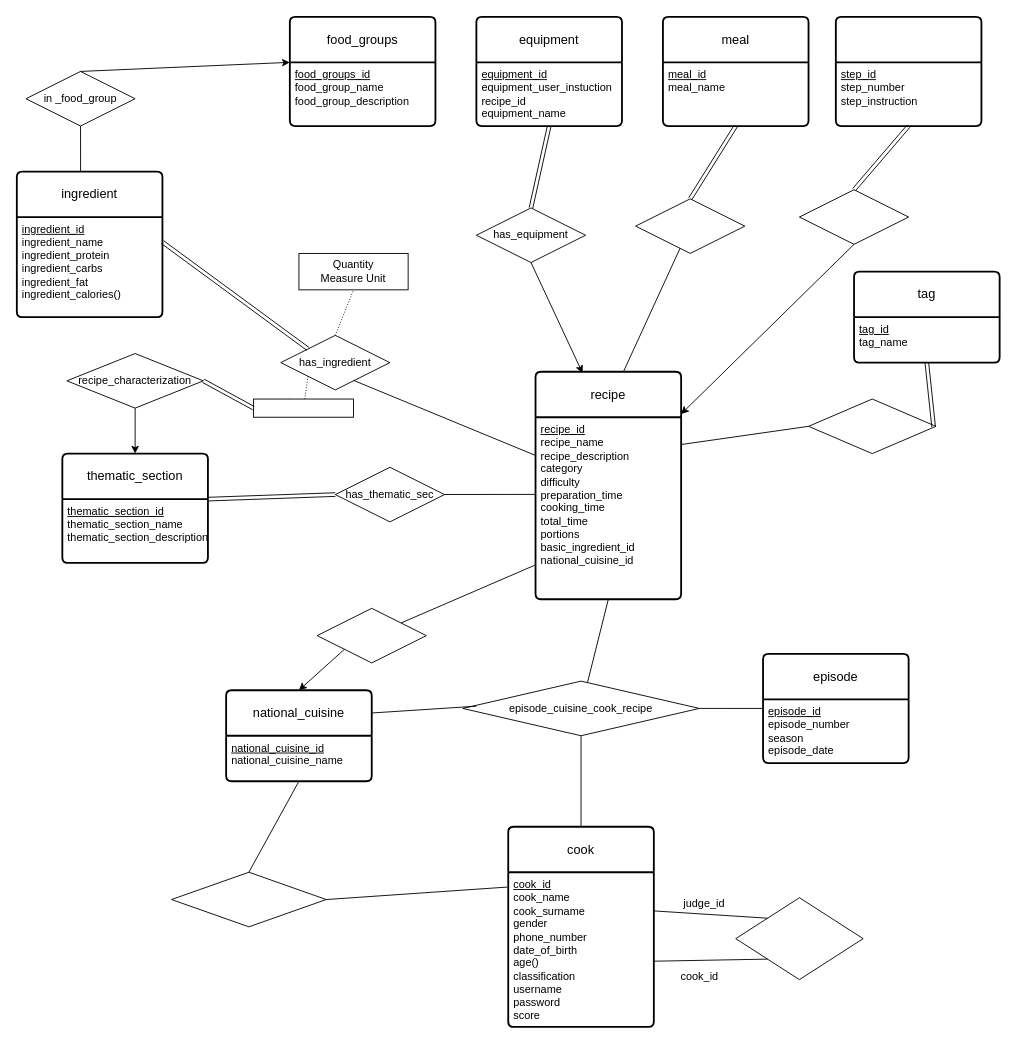
Some shapes in this 1016 by 1043 pixel diagram are drawn without their labels. Here are the shapes that lost their labels. From the top down, the box of each, then its label:
(834, 15, 982, 126): steps
(635, 198, 745, 253): recipe_meal
(799, 189, 909, 244): has_steps
(253, 398, 354, 417): basic_ingredient
(808, 398, 936, 454): recipe_tag
(316, 607, 426, 663): belongs in
(171, 871, 326, 927): national_cuisine_cooks
(735, 897, 863, 980): get_score_from
